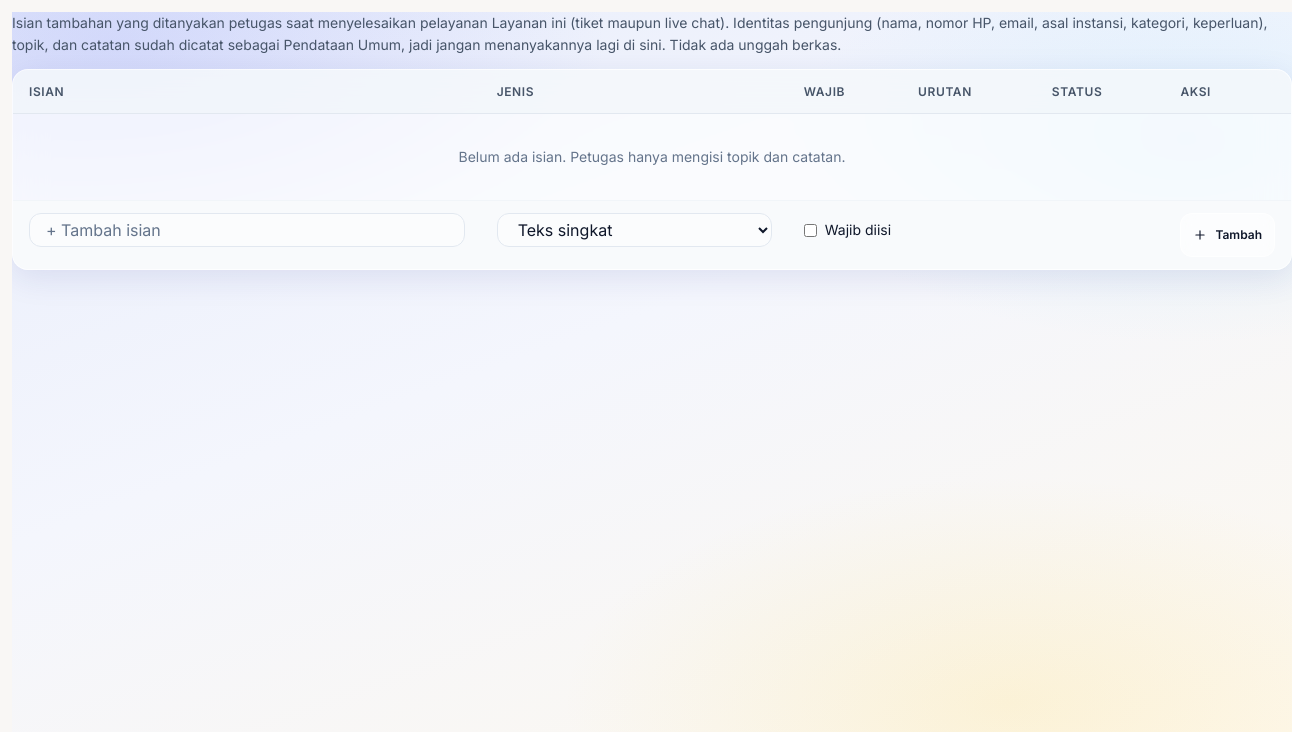
Scenario: PendataanKhususEditor › galat server tampil di bawah isian baris tambah (role=alert) dan isian tidak hilang
The width and height of the screenshot is (1292, 732).
Type "Nomor surat" into the field named "Label isian baru". click: coordinates (247, 230)
box: [29, 213, 465, 247]
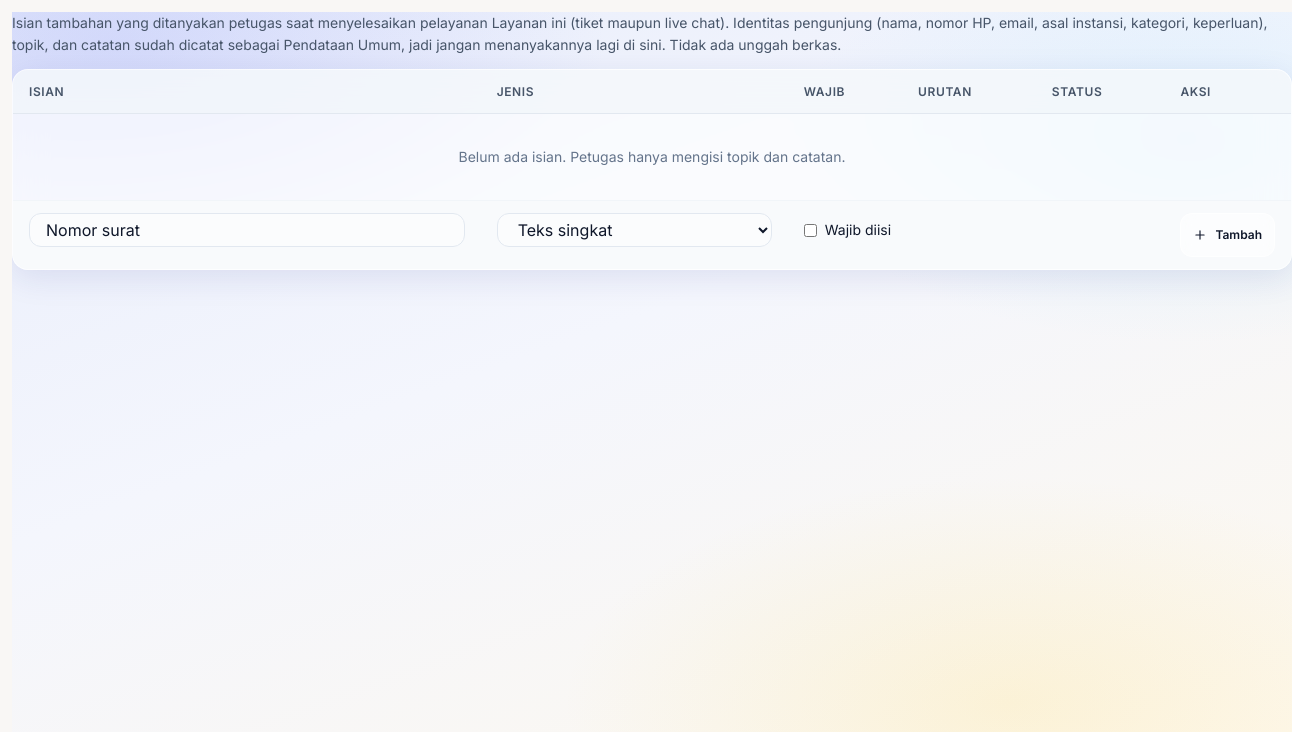
Click the button with aria-label "Tambah isian". click: coordinates (1228, 235)
box: [1180, 213, 1275, 257]
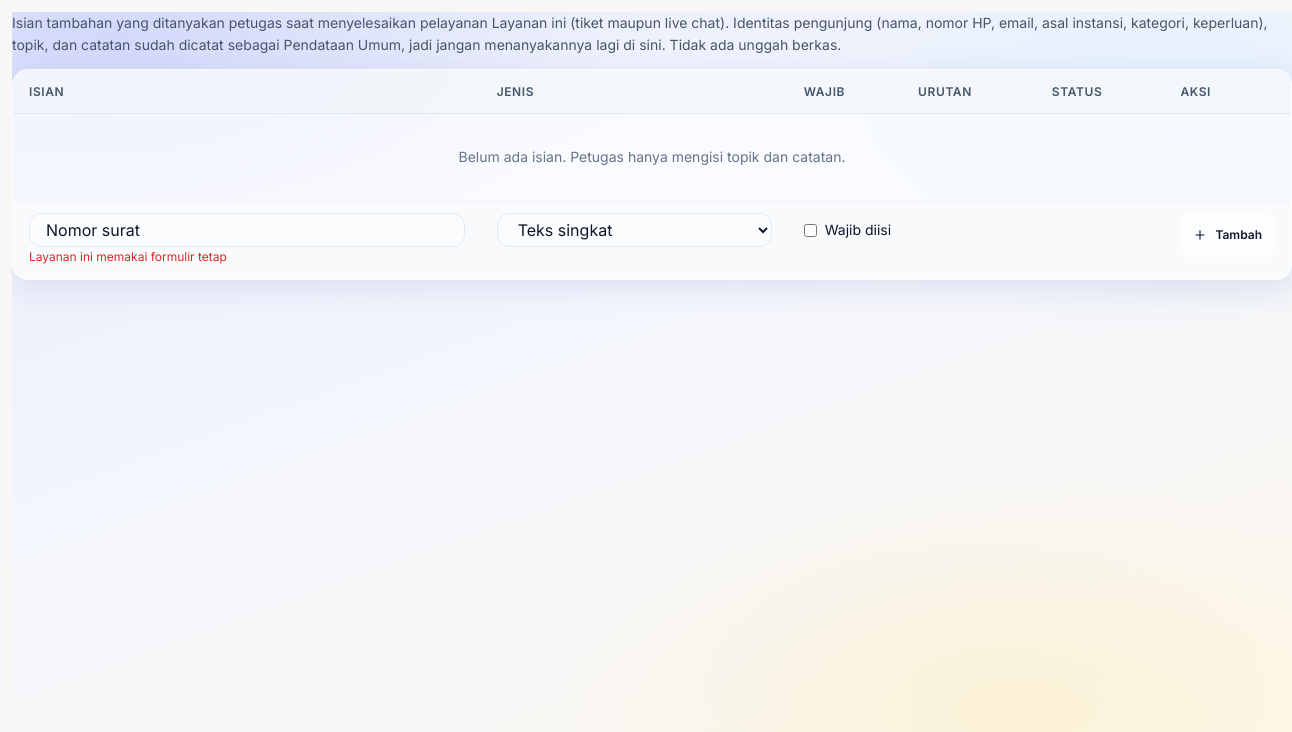
Expected: the message shows "formulir tetap", [29, 249, 227, 264]
